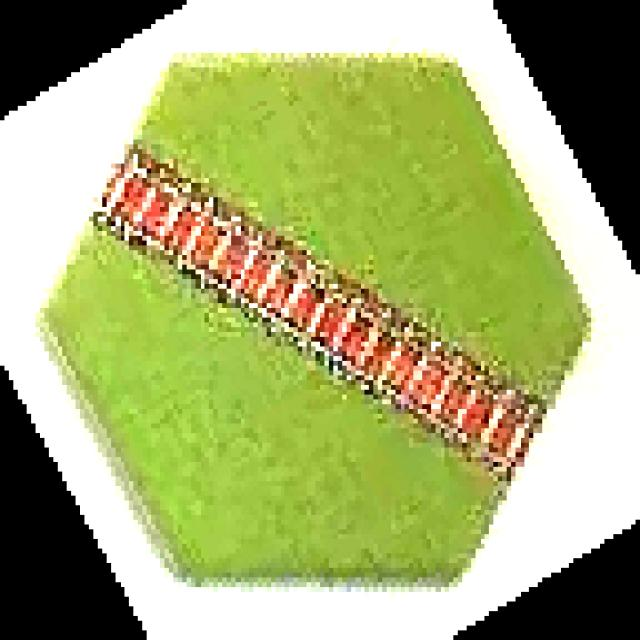3_2: (45, 48, 591, 592)
